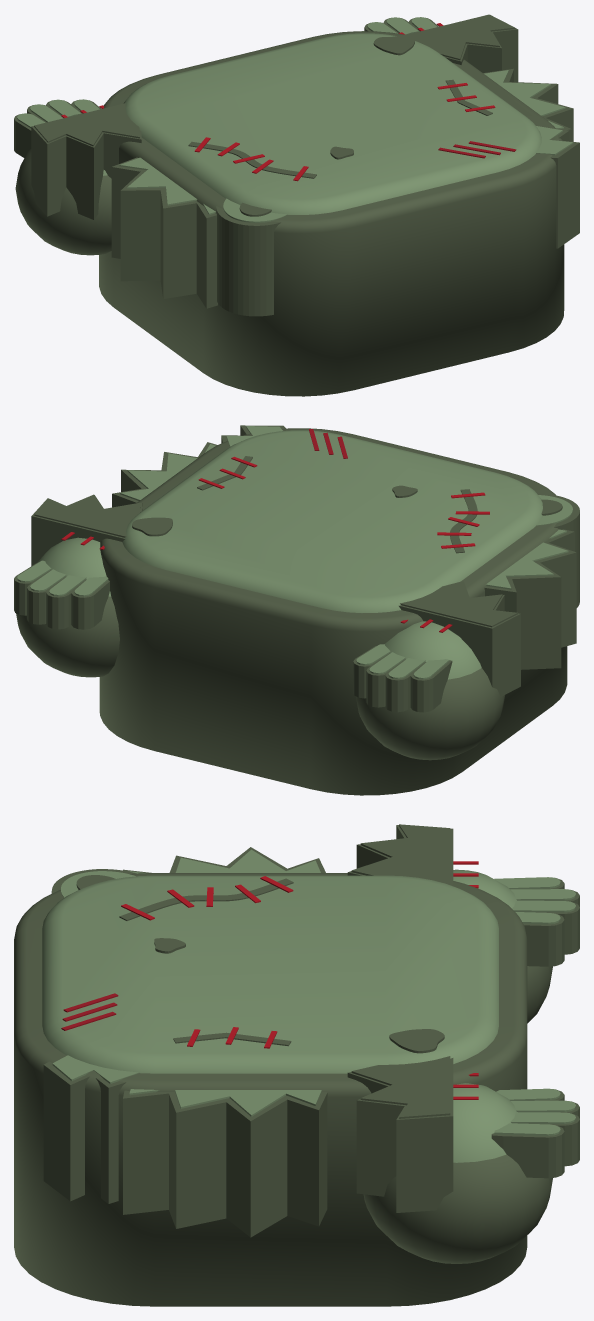
The model's file is body_zumbi.fbx.
3 renders of one model, top to bottom at view 1: azimuth 30°, elevation 25°; view 2: azimuth 150°, elevation 25°; view 3: azimuth 270°, elevation 25°, orthographic. The views are drawn at different scales.
Parts seen in each view (by area): view 1: body_zumbi_corpo, body_zumbi_mao_esq, body_zumbi_mao; view 2: body_zumbi_corpo, body_zumbi_mao_esq, body_zumbi_mao; view 3: body_zumbi_corpo, body_zumbi_mao, body_zumbi_mao_esq.
Part boxes in pixels (x1,y1,x2,y2): body_zumbi_corpo: (99,31,579,396); body_zumbi_mao_esq: (14,99,141,255); body_zumbi_mao: (362,14,518,82); body_zumbi_corpo: (99,425,579,795); body_zumbi_mao_esq: (353,581,520,760); body_zumbi_mao: (14,494,142,677); body_zumbi_corpo: (14,847,527,1306); body_zumbi_mao: (347,1056,579,1263); body_zumbi_mao_esq: (347,824,579,1023).
Size of the model in its own units: 5.44 by 2.02 by 4.41.
1 material, 1 textured.
